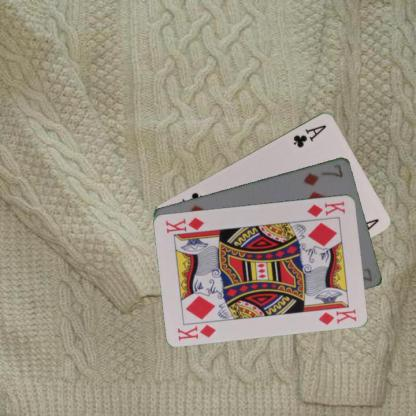7d: (301, 161, 344, 187)
Ac: (290, 122, 328, 149)
Kd: (305, 198, 347, 218), (175, 322, 217, 341)
